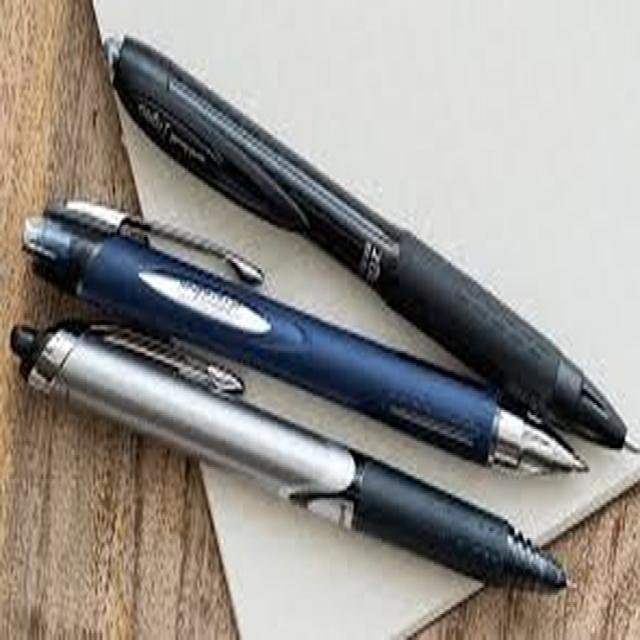pen: (11, 184, 579, 600), (109, 27, 636, 310), (24, 368, 640, 493)
